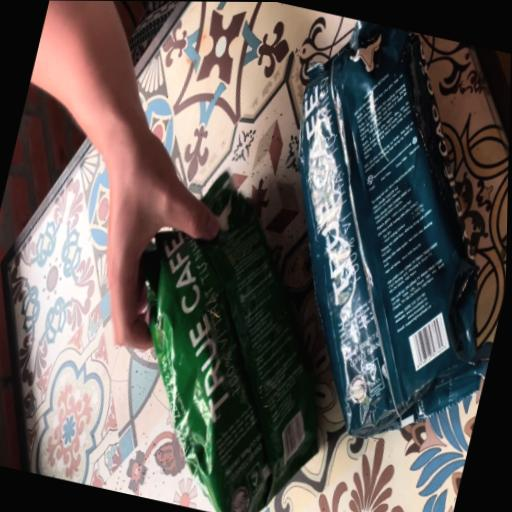cafe_hat: (298, 19, 481, 437)
cafe_xay: (143, 171, 316, 512)
